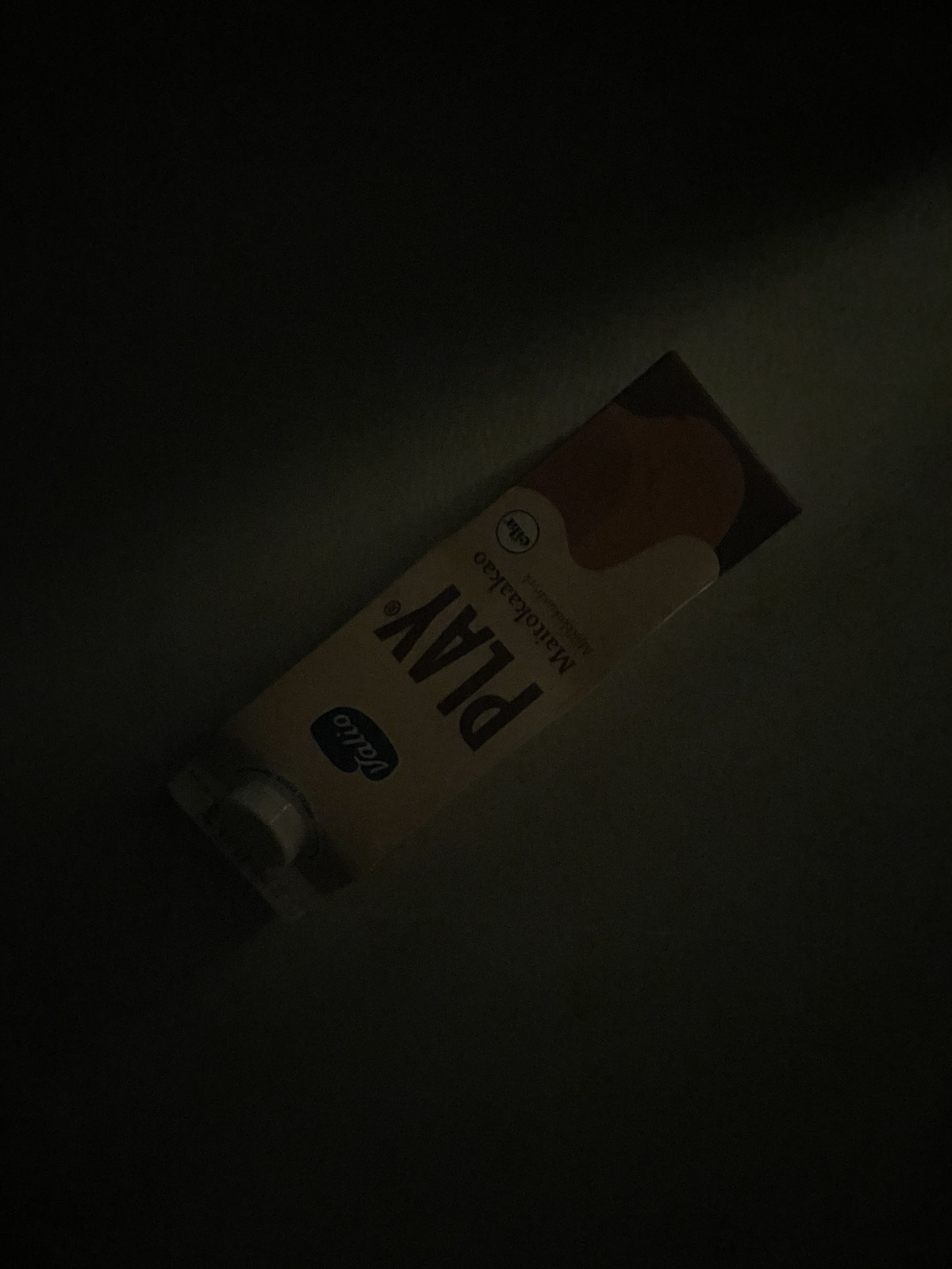Dryckeskartong: (670, 333, 902, 1021)
